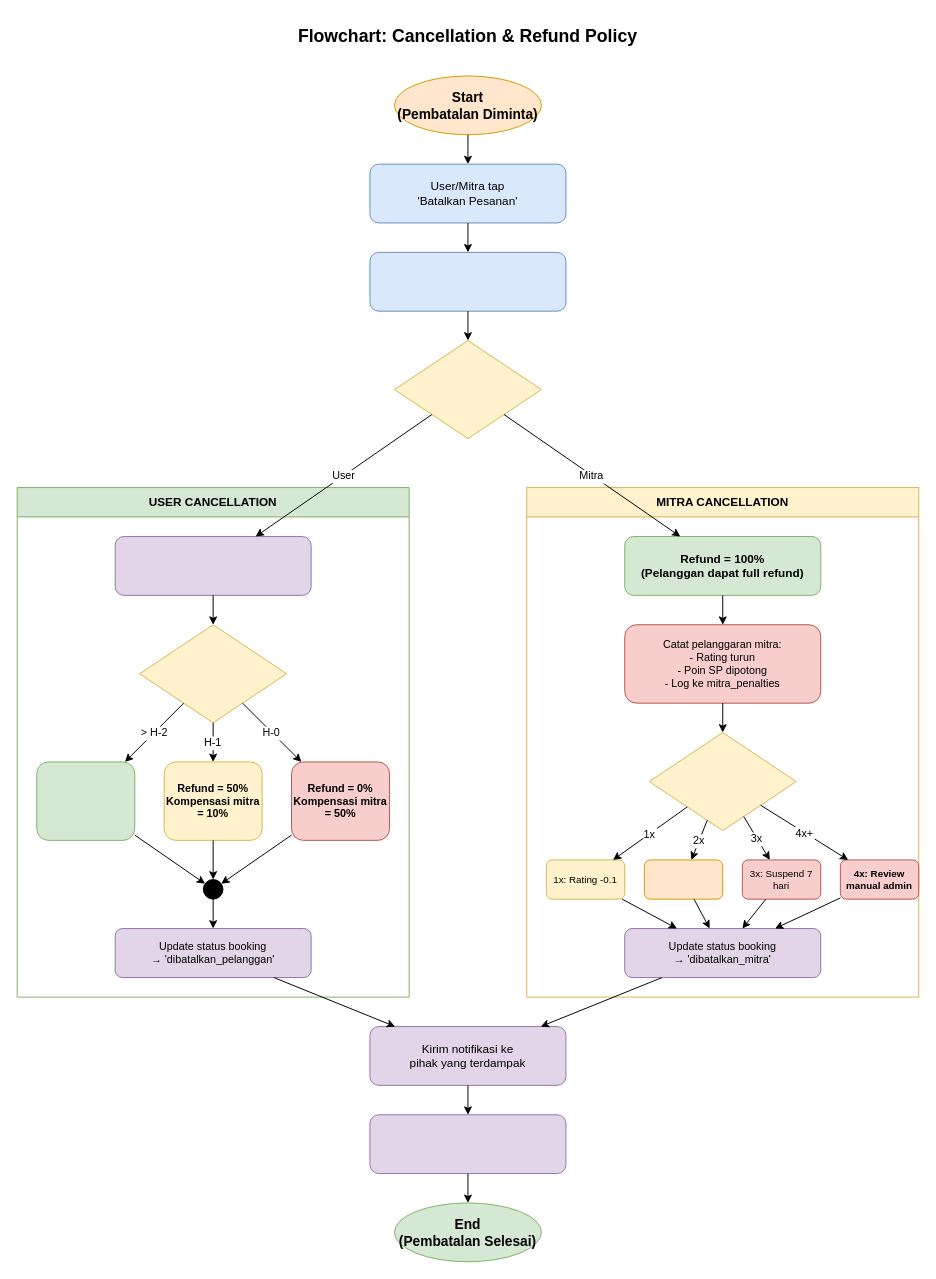
Some shapes in this 936 by 1279 pixel diagram are drawn without their labels. The centre of each missing label's shape, as x and y in pixels:
"2x: Rating -0.2 Poin SP -5" belongs at (x=683, y=879).
"Frekuensi pembatalan bulan ini?" belongs at (x=722, y=781).
"Hitung H-berapa dari scheduled_at" belongs at (x=212, y=565).
"Isi alasan pembatalan (Wajib untuk Mitra)" belongs at (x=467, y=281).
"Process refund via Xendit (jika ada refund)" belongs at (x=467, y=1144).
"Refund = 100% Slot terbuka kembali Kompensasi mitra = 0" belongs at (x=85, y=800).
"Siapa yang membatalkan?" belongs at (x=467, y=389).
"Waktu pembatalan?" belongs at (x=213, y=673).
